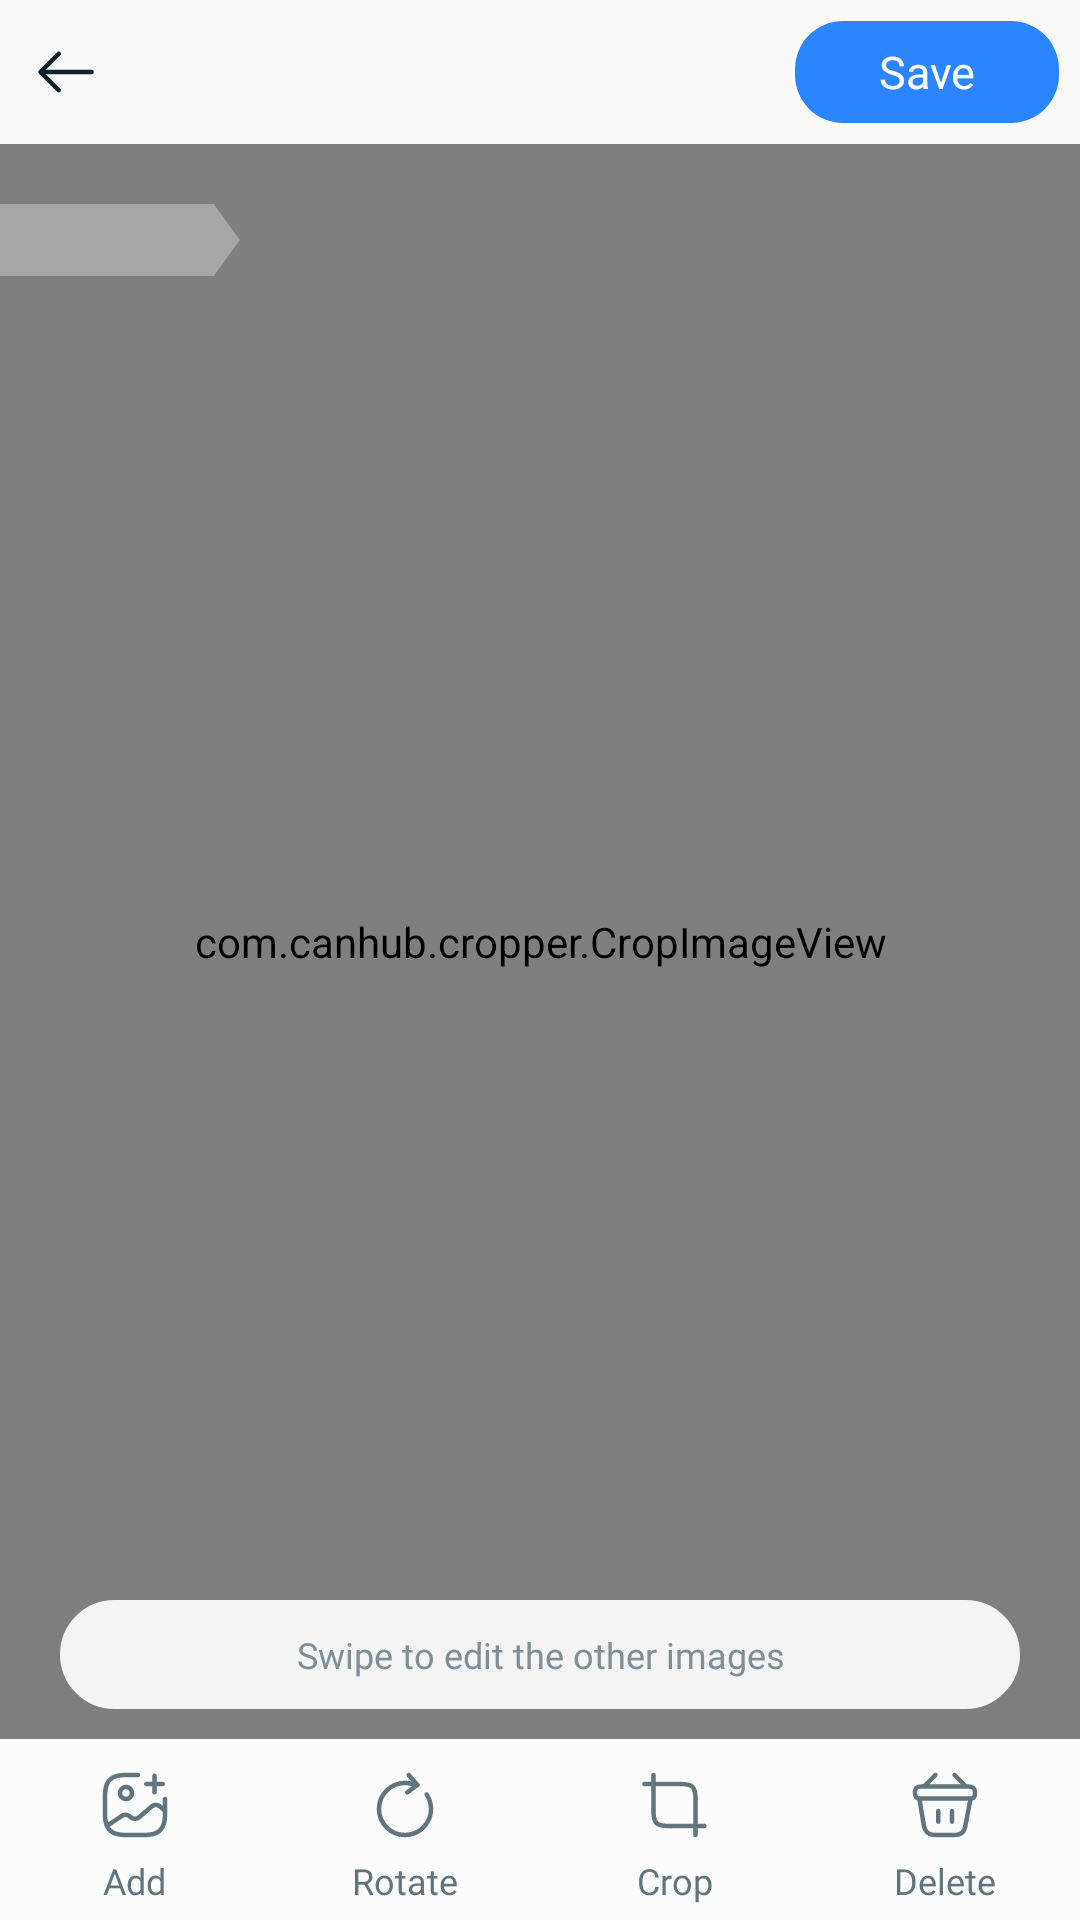

Where to tap for icons on this 1080w x 1920h app screen, as point (x, y):
back all: point (66, 72)
